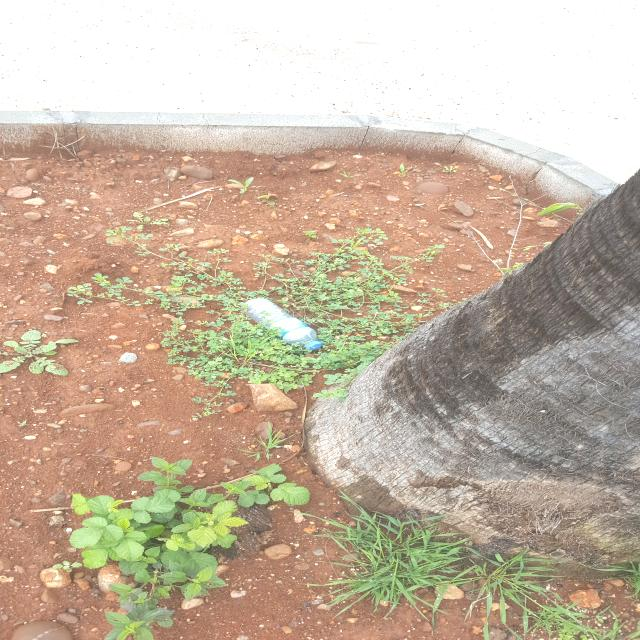Clear plastic bottle: (240, 298, 322, 350)
Plastic bottle cap: (306, 342, 322, 350)
